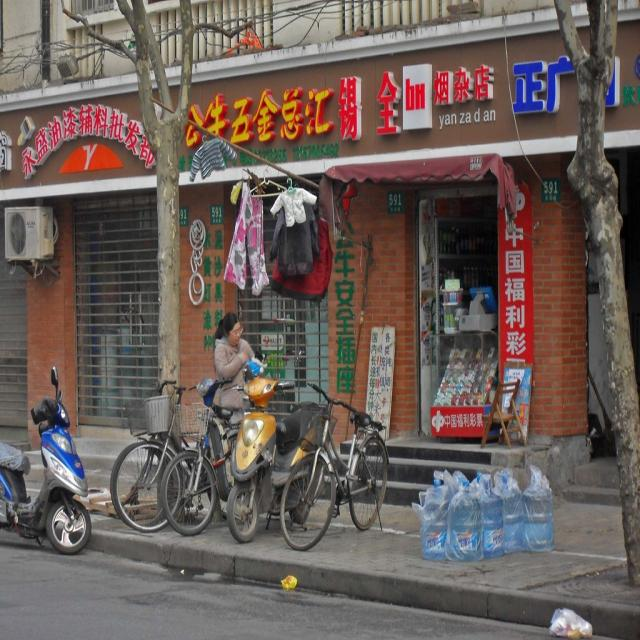Motorbikes: (224, 361, 325, 544), (2, 384, 86, 558)
Pedestrians: (213, 309, 257, 423)
